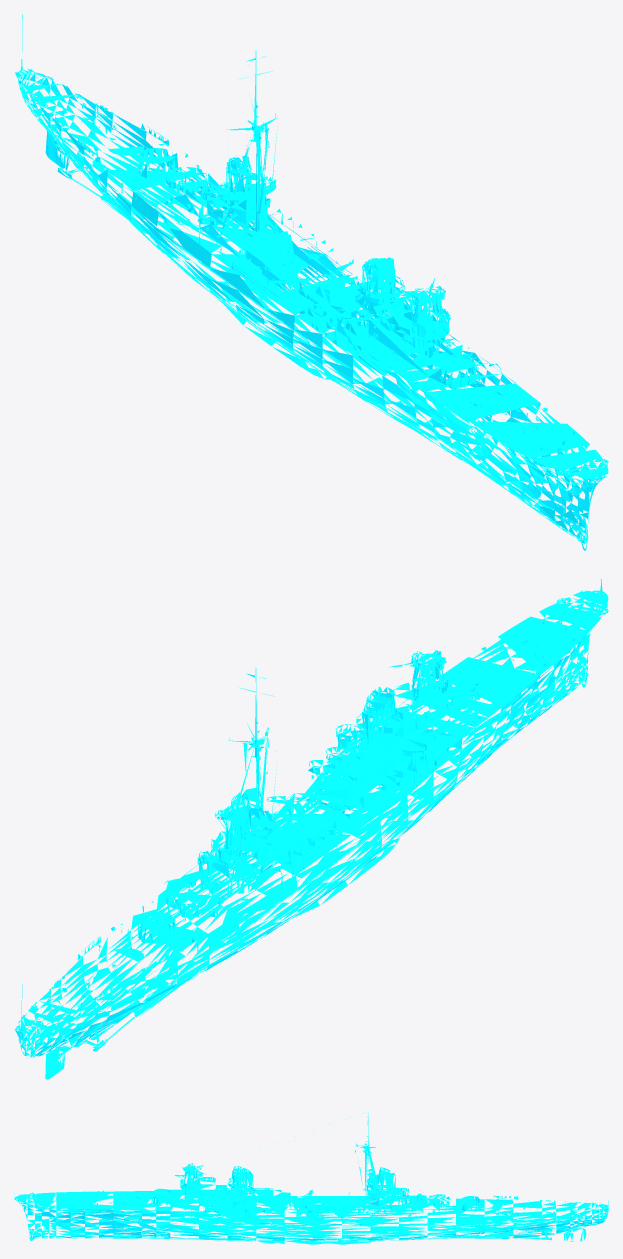
The model's file is Raimondo_Montecuccoli.glb.
3 views of the same model, one above another, from view 1: azimuth 30°, elevation 25°; view 2: azimuth 150°, elevation 25°; view 3: azimuth 270°, elevation 25° (orthographic). The views are drawn at different scales.
Size of the model in its own units: 1.16 by 3 by 12.15.
